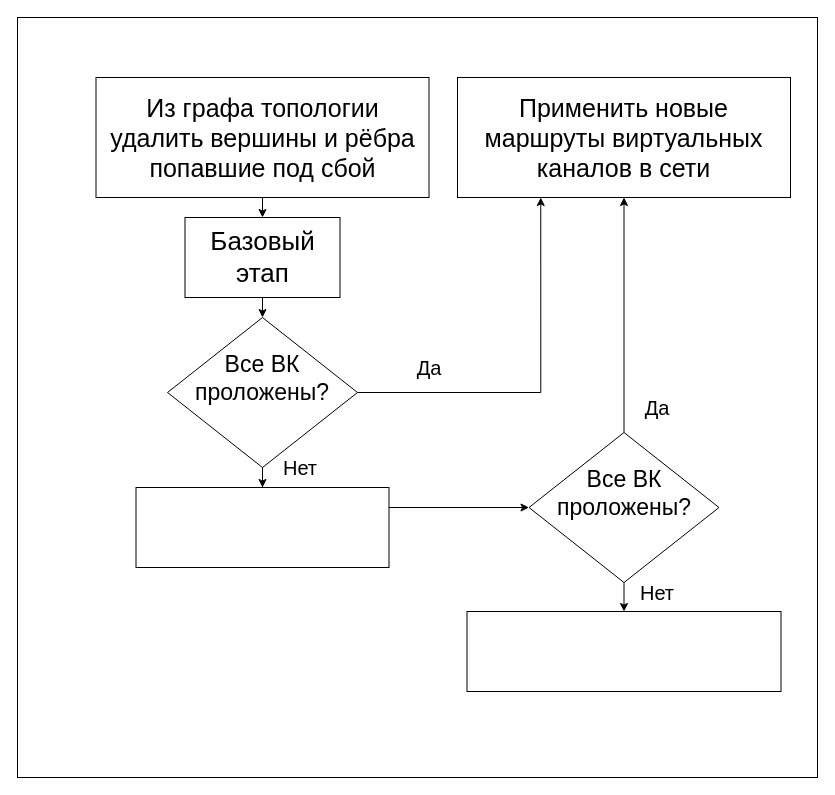
This 835x795 diagram has some shape labels left out. The shapes that lost their labels are listed below. From the top down, each one's centre as x and y in pixels, then its label:
At point (262, 527): "Дополнительный этап".
At point (623, 651): "Неуспех алгоритма реконфигурации".
